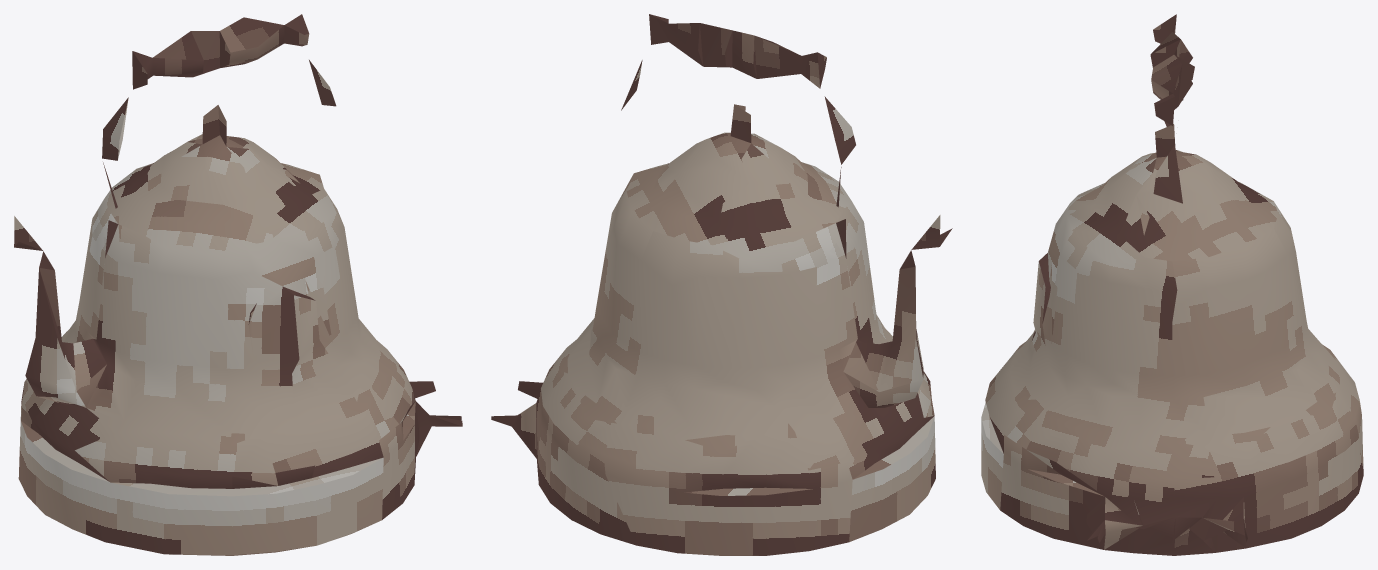
The model's file is vintage_electric_kettle.glb.
3 renders of one model, left to right at view 1: azimuth 30°, elevation 25°; view 2: azimuth 150°, elevation 25°; view 3: azimuth 270°, elevation 25°, orthographic. The views are drawn at different scales.
Parts seen in each view (by area): view 1: mesh; view 2: mesh; view 3: mesh.
Part boxes in pixels (<box>): mesh: <box>14,14,462,555</box>; mesh: <box>491,14,952,555</box>; mesh: <box>981,14,1363,555</box>.
Size of the model in its own units: 0.3054 by 0.3047 by 0.2478.
Materials: 1 (1 with a texture image).
